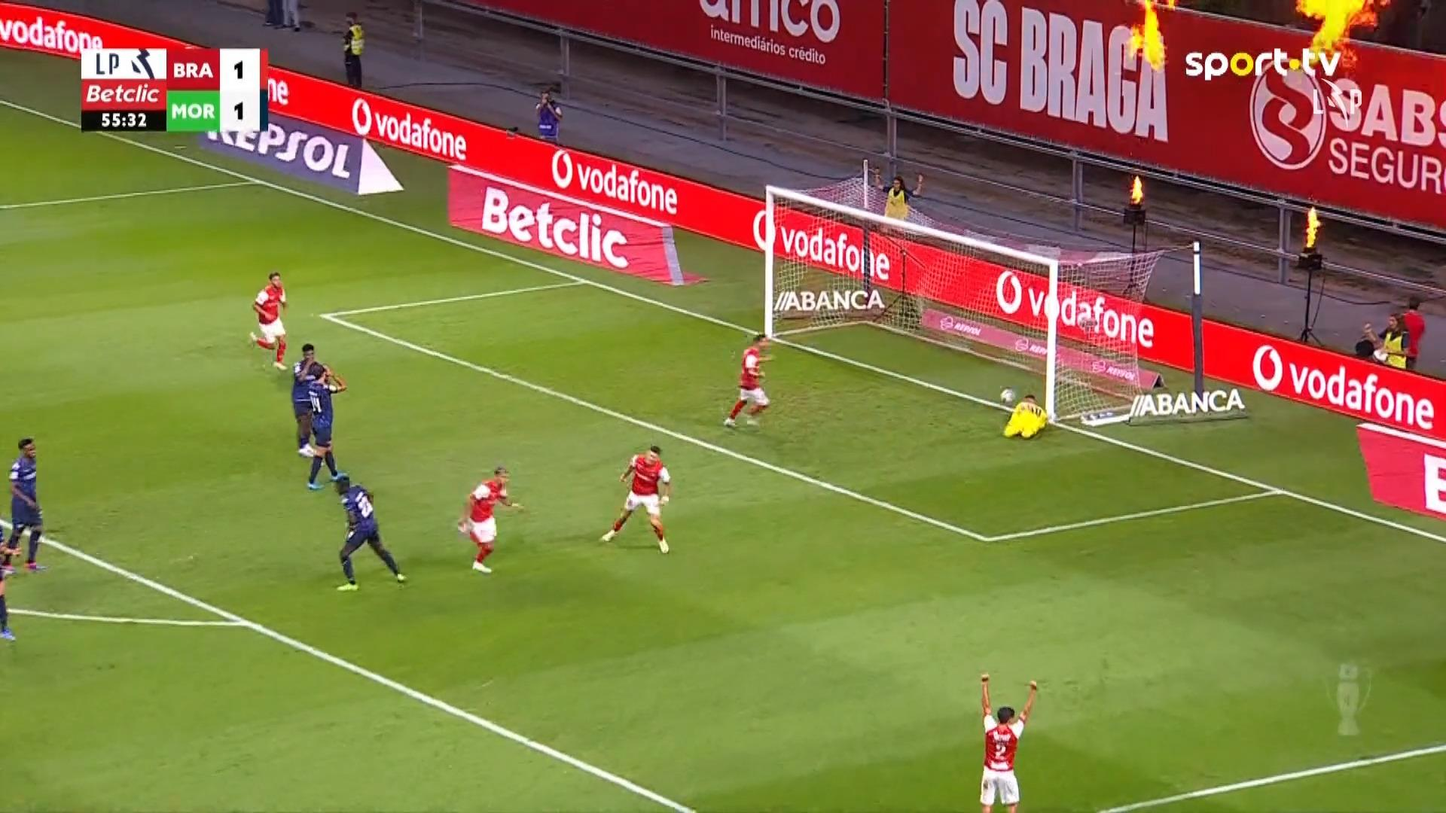ball: (999, 388, 1015, 404)
goalkeeper: (1002, 393, 1048, 439)
player: (329, 471, 407, 592), (978, 672, 1039, 811), (599, 443, 672, 554), (456, 465, 526, 574), (2, 436, 47, 573), (302, 362, 348, 490), (722, 331, 774, 428), (248, 270, 289, 370), (291, 342, 325, 458), (0, 530, 22, 641)
referee: (340, 11, 365, 89)
